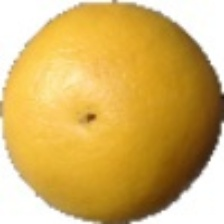grapes: (36, 27, 177, 168)
